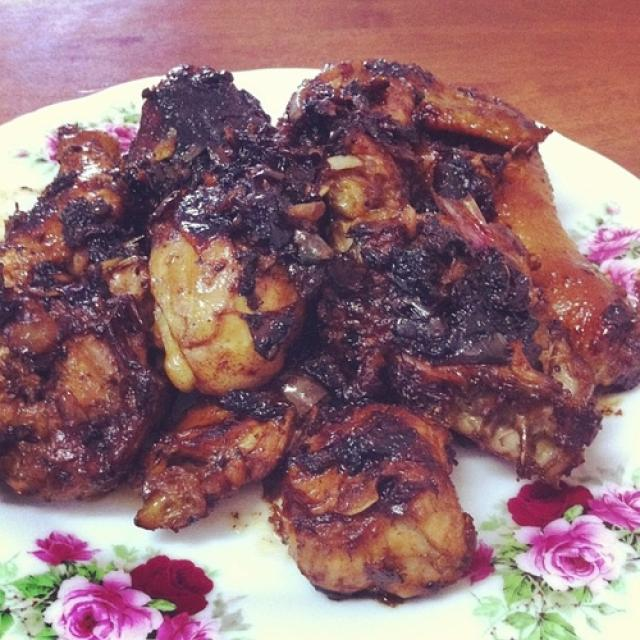鸡肉料理 含炸鸡: (8, 50, 626, 599)
